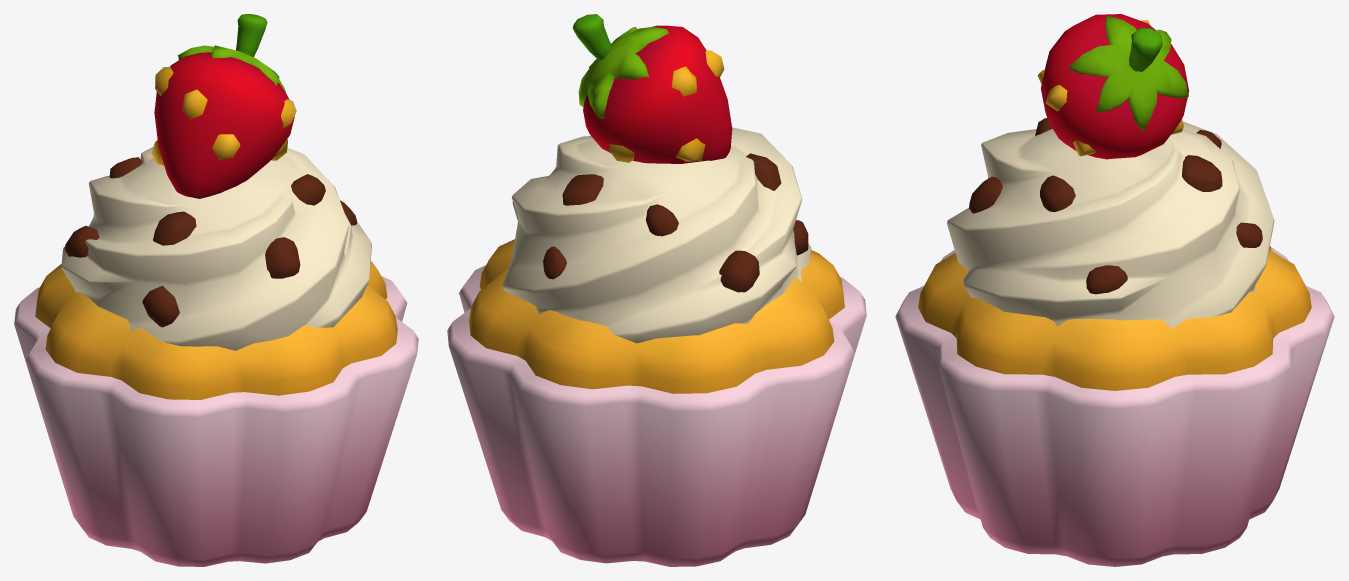
Rendered from Cupcake_strawberry.fbx.
3 views of the same model, side by side, from view 1: azimuth 30°, elevation 25°; view 2: azimuth 150°, elevation 25°; view 3: azimuth 270°, elevation 25° (orthographic). The views are drawn at different scales.
Parts seen in each view (by area): view 1: Cupcake_strawberry; view 2: Cupcake_strawberry; view 3: Cupcake_strawberry.
Boxes of the visible parts, x1,y1,x2,y2 form: Cupcake_strawberry: (14,14,418,566); Cupcake_strawberry: (447,14,866,566); Cupcake_strawberry: (895,14,1334,566).
Size of the model in its own units: 171 by 215 by 171.
1 material, 1 textured.
